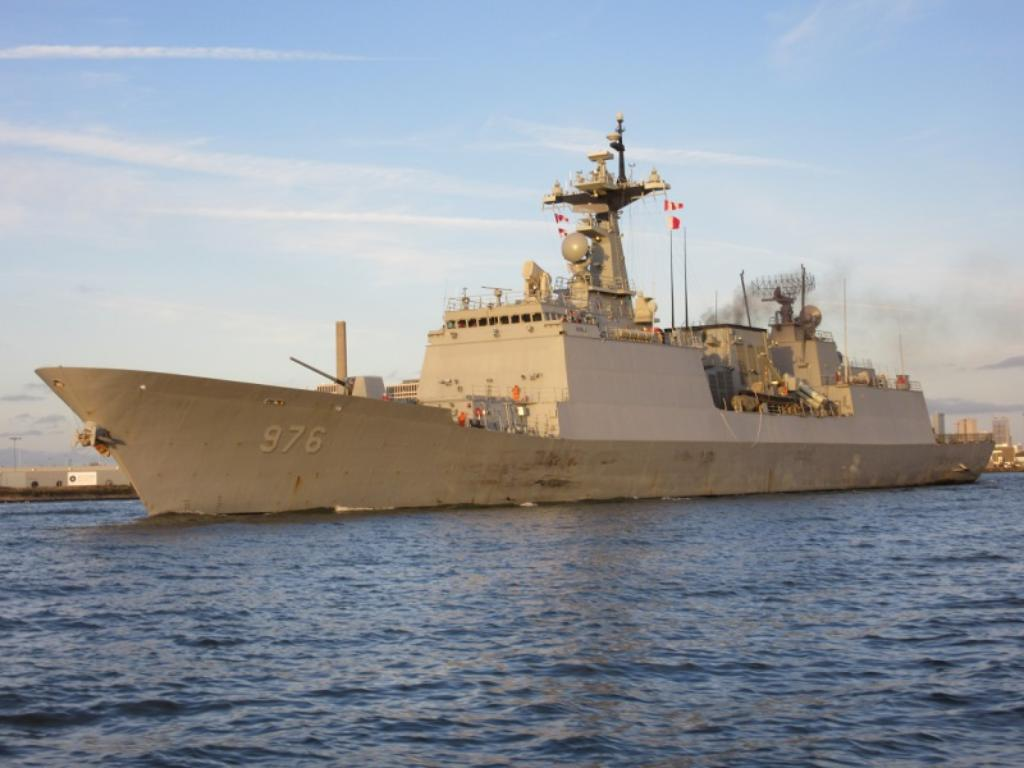Warship: (34, 105, 994, 523)
